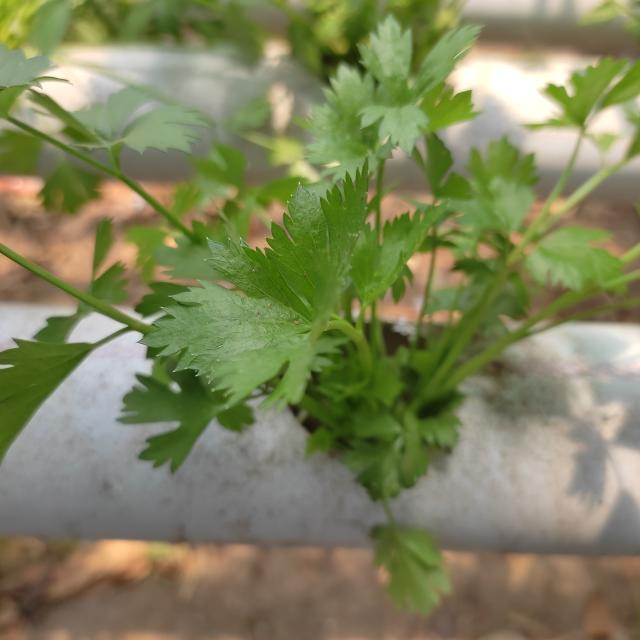Wet Waste: (20, 71, 627, 492)
